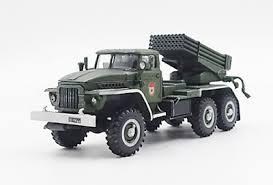MIL_SAM_TEL: (31, 32, 243, 157)
